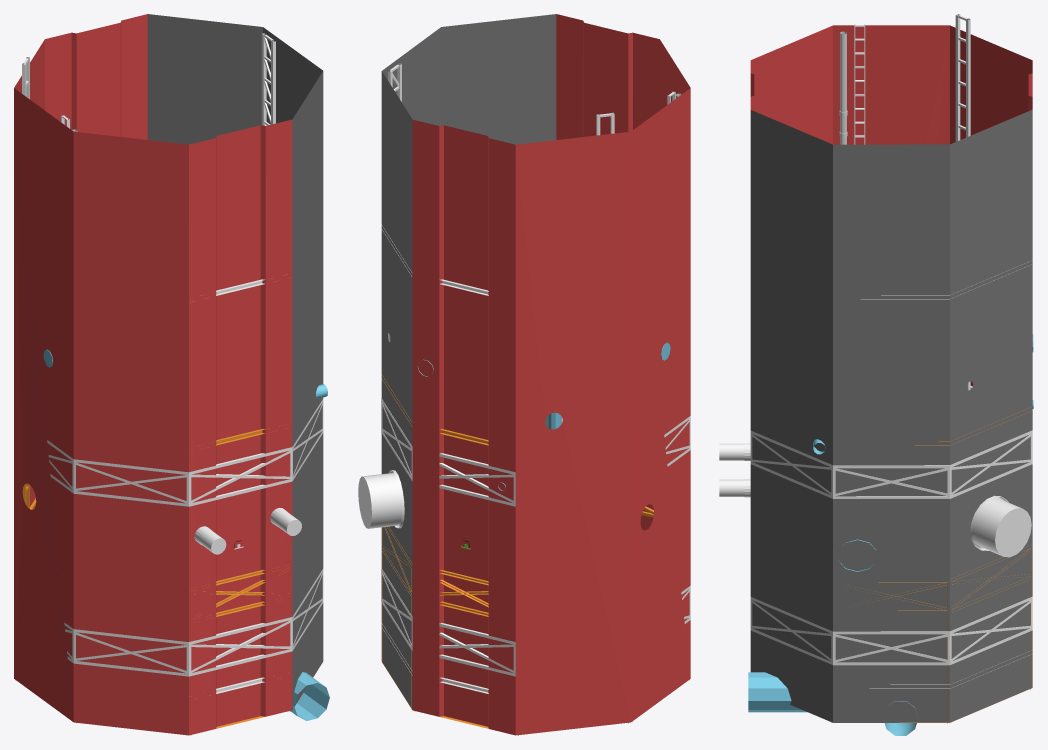
The model's file is 2S_Background.fbx.
3 renders of one model, left to right at view 1: azimuth 30°, elevation 25°; view 2: azimuth 150°, elevation 25°; view 3: azimuth 270°, elevation 25°, orthographic. The views are drawn at different scales.
Parts seen in each view (by area): view 1: Object011, Object028, x (×3), Object026, Bar, 관; view 2: Object011, Object028, x (×2), 관, Bar; view 3: Object028, Object011, x (×5), 관 (×2), Object026, Bar.
Boxes of the visible parts, <box> form: Object011: <box>14,14,292,735</box>; Object028: <box>147,14,323,709</box>; x (×3): <box>47,33,323,676</box>; Object026: <box>272,523,329,720</box>; Bar: <box>15,429,290,735</box>; 관: <box>194,508,301,554</box>; Object011: <box>412,14,690,735</box>; Object028: <box>381,14,556,709</box>; x (×2): <box>381,398,690,676</box>; 관: <box>358,470,404,528</box>; Bar: <box>381,375,689,735</box>; Object028: <box>750,109,1032,722</box>; Object011: <box>750,25,1032,386</box>; x (×5): <box>750,14,1032,665</box>; 관 (×2): <box>719,443,1031,557</box>; Object026: <box>748,539,916,735</box>; Bar: <box>831,409,1030,723</box>.
Bounding box in the file's own units: 410 × 970 × 454.
